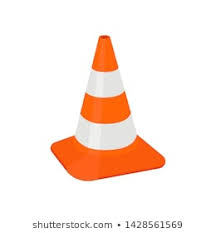cones: (51, 36, 168, 179)
